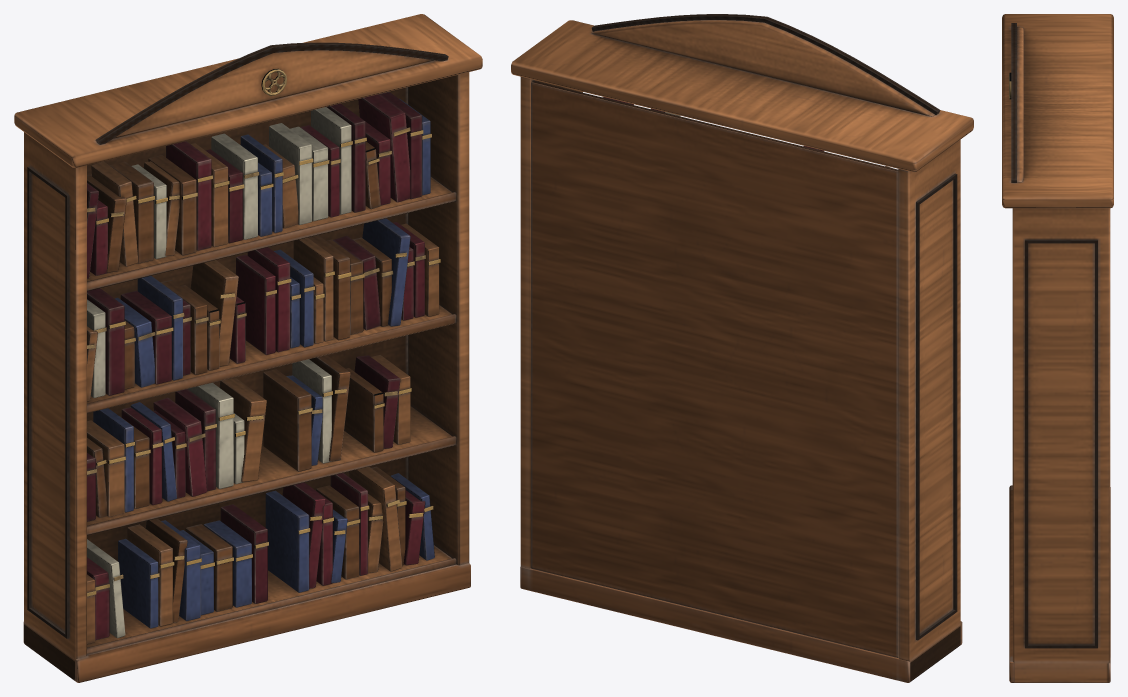
The model's file is Bookshelf.fbx.
3 views of the same model, side by side, from view 1: azimuth 30°, elevation 25°; view 2: azimuth 150°, elevation 25°; view 3: azimuth 270°, elevation 25° (orthographic). The views are drawn at different scales.
Parts seen in each view (by area): view 1: Bookshelf_Case, Bookshelf_Book36, Bookshelf_Book12, Bookshelf_Book55, Bookshelf_Book91, Bookshelf_Book4, Bookshelf_Book53, Bookshelf_Book40, Bookshelf_Book35, Bookshelf_Book65, Bookshelf_Book77, Bookshelf_Book19 (+76 smaller); view 2: Bookshelf_Case; view 3: Bookshelf_Case.
Boxes of the visible parts, x1,y1,x2,y2 form: Bookshelf_Case: (14, 14, 482, 682); Bookshelf_Book36: (263, 369, 312, 471); Bookshelf_Book12: (265, 490, 310, 592); Bookshelf_Book55: (236, 254, 276, 354); Bookshelf_Book91: (358, 94, 410, 202); Bookshelf_Book4: (118, 538, 159, 628); Bookshelf_Book53: (190, 260, 238, 366); Bookshelf_Book40: (344, 368, 384, 452); Bookshelf_Book35: (219, 378, 266, 482); Bookshelf_Book65: (362, 218, 410, 326); Bookshelf_Book77: (166, 141, 212, 250); Bookshelf_Book19: (349, 466, 402, 571); Bookshelf_Case: (511, 14, 973, 682); Bookshelf_Case: (1002, 14, 1113, 682).
Bounding box in the file's own units: 625 × 855 × 160.
